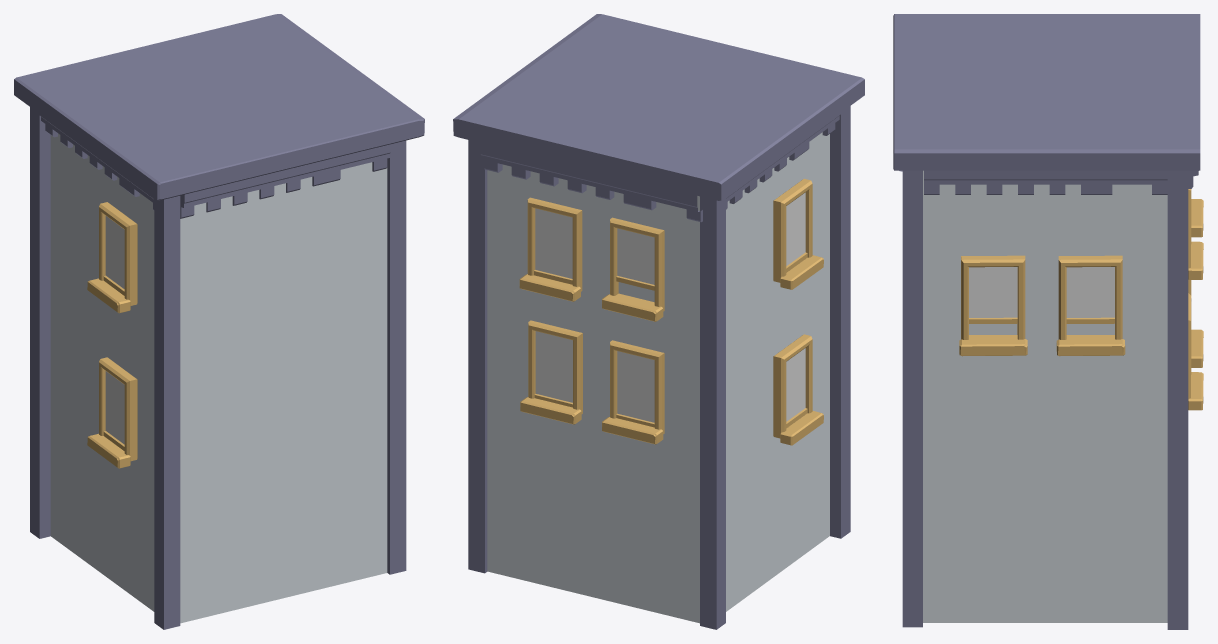
The model's file is building.glb.
3 views of the same model, side by side, from view 1: azimuth 30°, elevation 25°; view 2: azimuth 150°, elevation 25°; view 3: azimuth 270°, elevation 25° (orthographic). The views are drawn at different scales.
Parts seen in each view (by area): view 1: Cube.071, Cube.093, Cube.090, Cube.088, Cube.091, Cube.092, Cube.104, Cube.097, Cube.095; view 2: Cube.071, Cube.093, Cube.088, Cube.090, Cube.089, Cube.083, Cube.097, Cube.104, Cube.077, Cube.086, Cube.087, Cube.080 (+9 smaller); view 3: Cube.071, Cube.093, Cube.089, Cube.091, Cube.094, Cube.100, Cube.103, Cube.102, Cube.099, Cube.101, Cube.098, Cube.084 (+3 smaller).
Part boxes in pixels (x1,y1,x2,y2): Cube.071: [50, 133, 387, 623]; Cube.093: [14, 14, 424, 200]; Cube.090: [154, 195, 180, 629]; Cube.088: [30, 107, 50, 538]; Cube.091: [387, 140, 406, 574]; Cube.092: [180, 144, 390, 218]; Cube.104: [87, 357, 137, 468]; Cube.097: [87, 202, 137, 313]; Cube.095: [39, 114, 154, 210]; Cube.071: [487, 132, 829, 623]; Cube.093: [453, 14, 864, 200]; Cube.088: [700, 196, 725, 629]; Cube.090: [830, 106, 850, 538]; Cube.089: [468, 140, 487, 573]; Cube.083: [480, 143, 702, 222]; Cube.097: [773, 178, 823, 289]; Cube.104: [773, 334, 823, 445]; Cube.077: [534, 208, 572, 284]; Cube.086: [616, 351, 654, 427]; Cube.087: [534, 331, 572, 407]; Cube.080: [616, 228, 654, 290]; Cube.071: [923, 170, 1167, 622]; Cube.093: [893, 14, 1200, 170]; Cube.089: [1167, 170, 1188, 629]; Cube.091: [902, 170, 922, 627]; Cube.094: [924, 170, 1167, 194]; Cube.100: [969, 267, 1017, 323]; Cube.103: [1066, 267, 1114, 323]; Cube.102: [1058, 255, 1122, 339]; Cube.099: [961, 255, 1025, 339]; Cube.101: [1056, 339, 1125, 356]; Cube.098: [959, 339, 1027, 356]; Cube.084: [1188, 372, 1203, 410].
Size of the model in its own units: 5.52 by 8.91 by 5.19.
